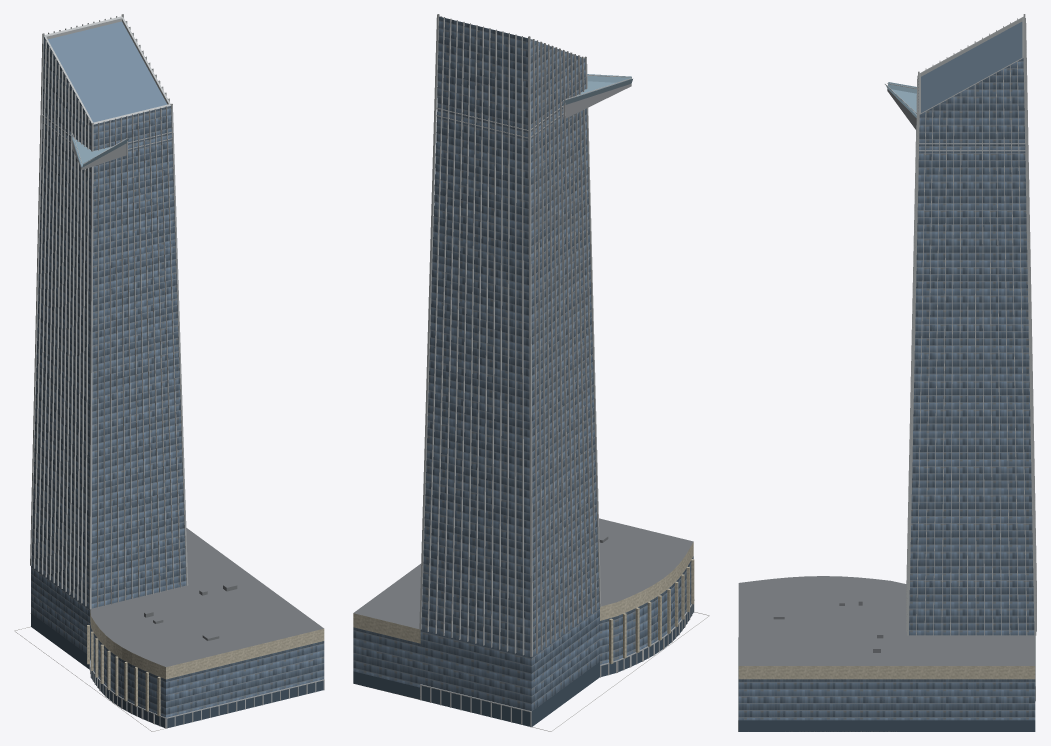
File: hudson_yards_30.glb
3 renders of one model, left to right at view 1: azimuth 30°, elevation 25°; view 2: azimuth 150°, elevation 25°; view 3: azimuth 270°, elevation 25°, orthographic. The views are drawn at different scales.
Visible parts, largest first — view 1: hudson_yards_30; view 2: hudson_yards_30; view 3: hudson_yards_30.
Part boxes in pixels (x1=…): hudson_yards_30: x1=14, y1=14, x2=324, y2=731; hudson_yards_30: x1=353, y1=14, x2=709, y2=731; hudson_yards_30: x1=738, y1=14, x2=1036, y2=731.
Size of the model in its own units: 120 by 388 by 164.
Materials: 3 (3 with a texture image).
